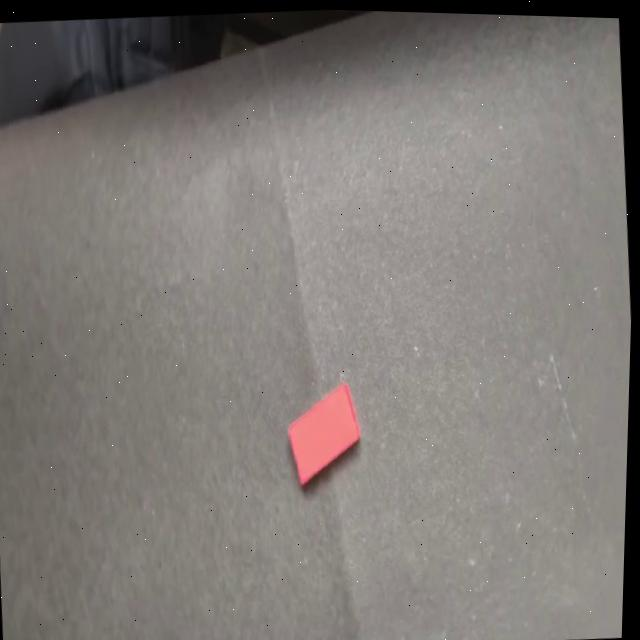red block: (281, 378, 366, 489)
